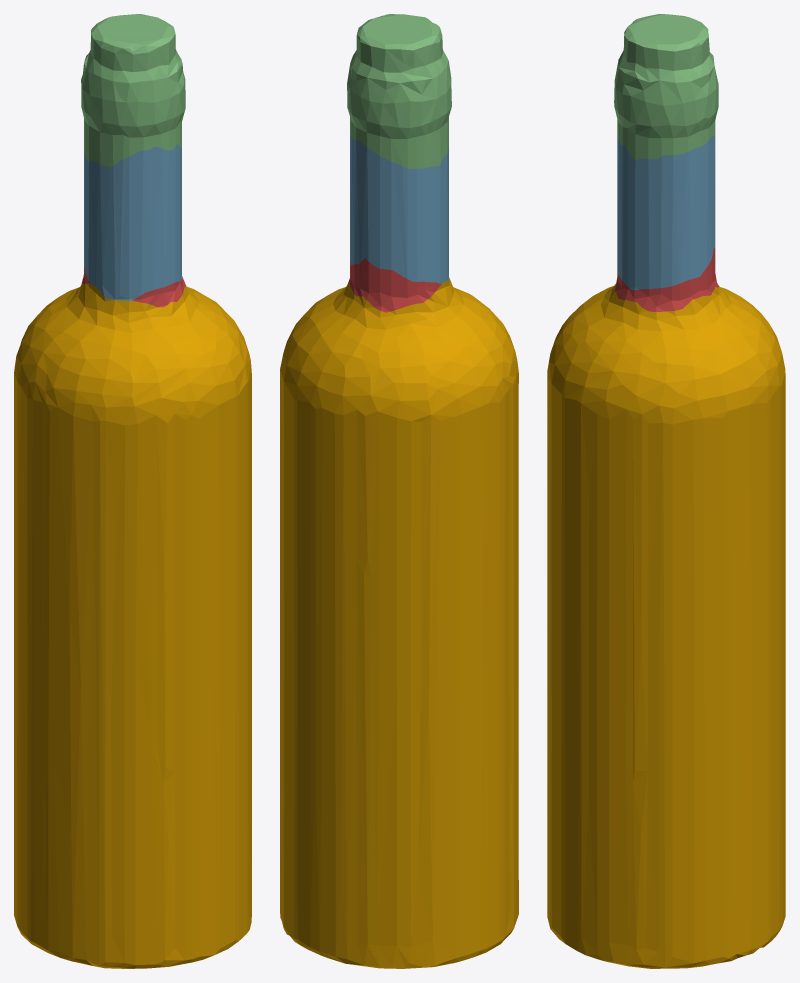
The model's file is fractured_13_4pcs.glb.
The picture shows the model from 3 angles, left to right: view 1: azimuth 30°, elevation 25°; view 2: azimuth 150°, elevation 25°; view 3: azimuth 270°, elevation 25°; orthographic projection.
Parts seen in each view (by area): view 1: piece_0.obj, piece_2.obj, piece_3.obj, piece_1.obj; view 2: piece_0.obj, piece_3.obj, piece_2.obj, piece_1.obj; view 3: piece_0.obj, piece_3.obj, piece_2.obj, piece_1.obj.
Boxes of the visible parts, x1,y1,x2,y2 form: piece_0.obj: (14,283,251,968); piece_2.obj: (84,144,182,300); piece_3.obj: (81,14,185,166); piece_1.obj: (82,266,186,307); piece_0.obj: (280,277,518,968); piece_3.obj: (347,14,451,168); piece_2.obj: (350,132,449,283); piece_1.obj: (348,258,441,312); piece_0.obj: (547,282,785,968); piece_3.obj: (614,14,718,160); piece_2.obj: (617,135,715,290); piece_1.obj: (614,248,718,312).
Size of the model in its own units: 0.2419 by 1 by 0.242.
